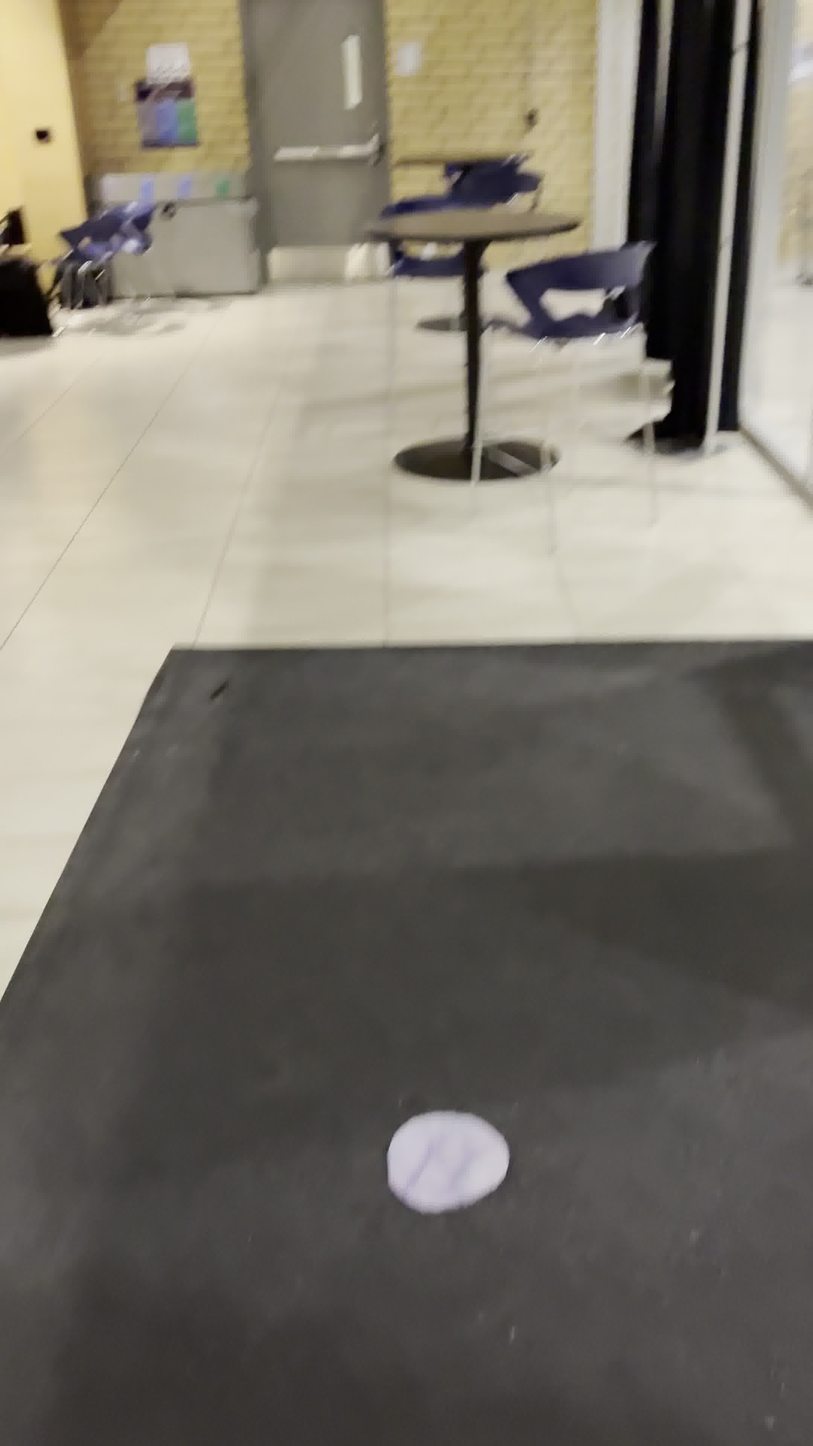Target: (384, 1105, 513, 1223)
